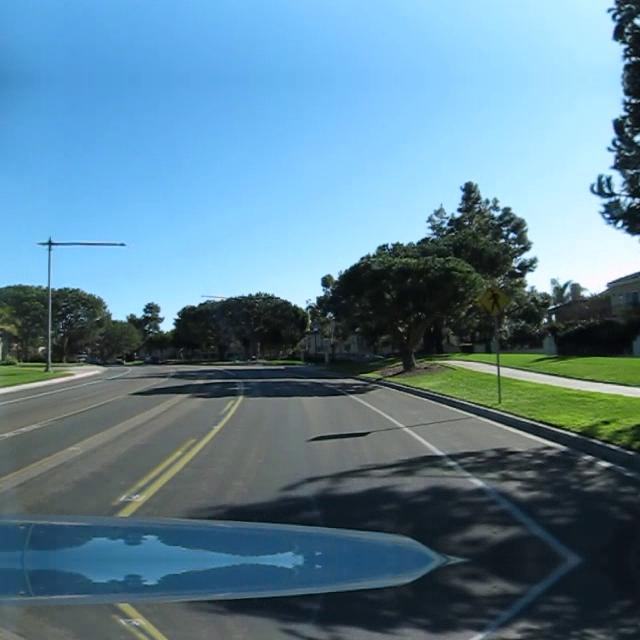pedestrianCrossing: (478, 283, 512, 319)
